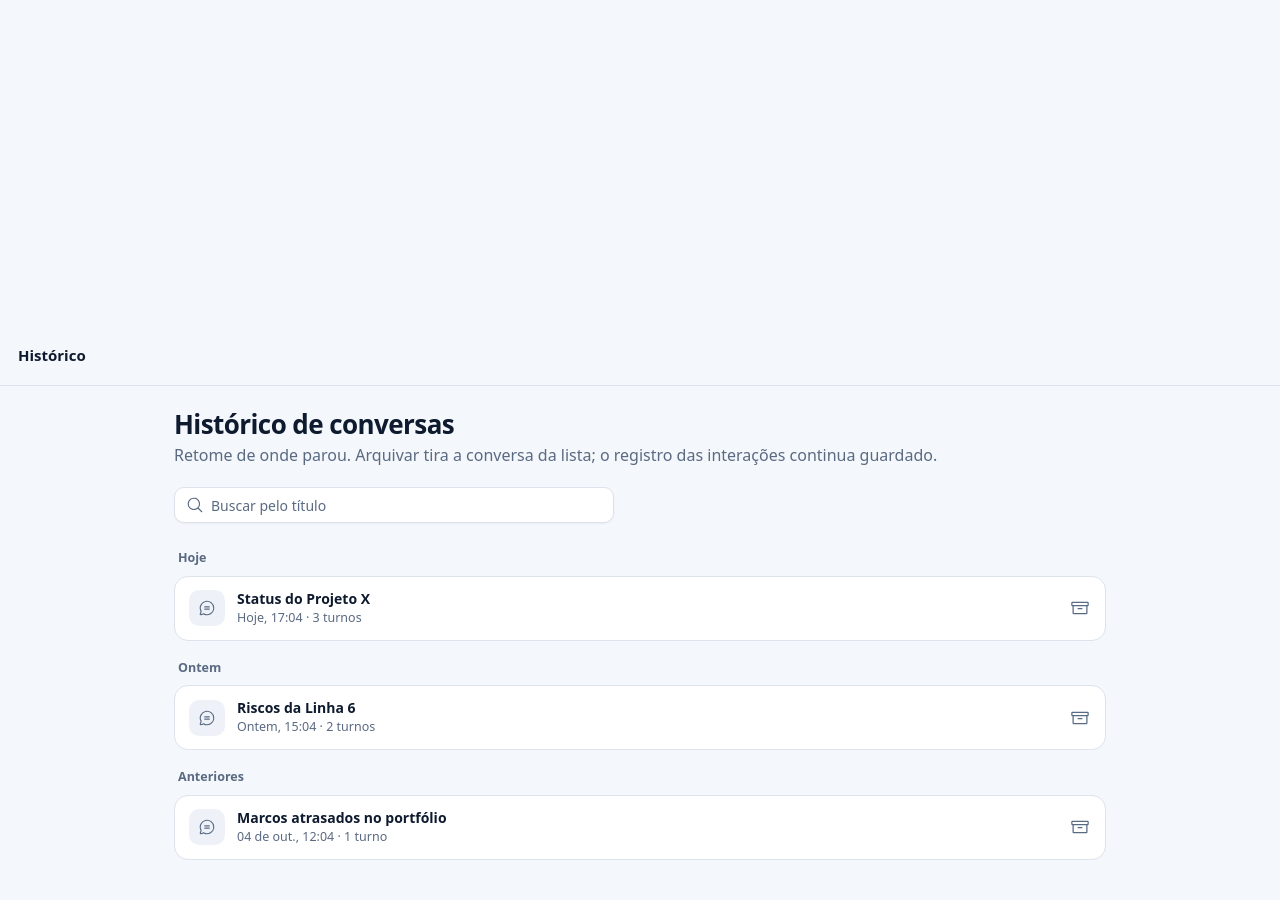
it: Página de histórico › arquiva a conversa depois de confirmar
(page scrolled)
Expected: the link "Status do Projeto X Hoje, 17:04 · 3 turnos" is shown, [189,589,370,626]
Click the button named "Arquivar Status do Projeto X". click: (1080, 608)
box: [1063,591,1097,625]
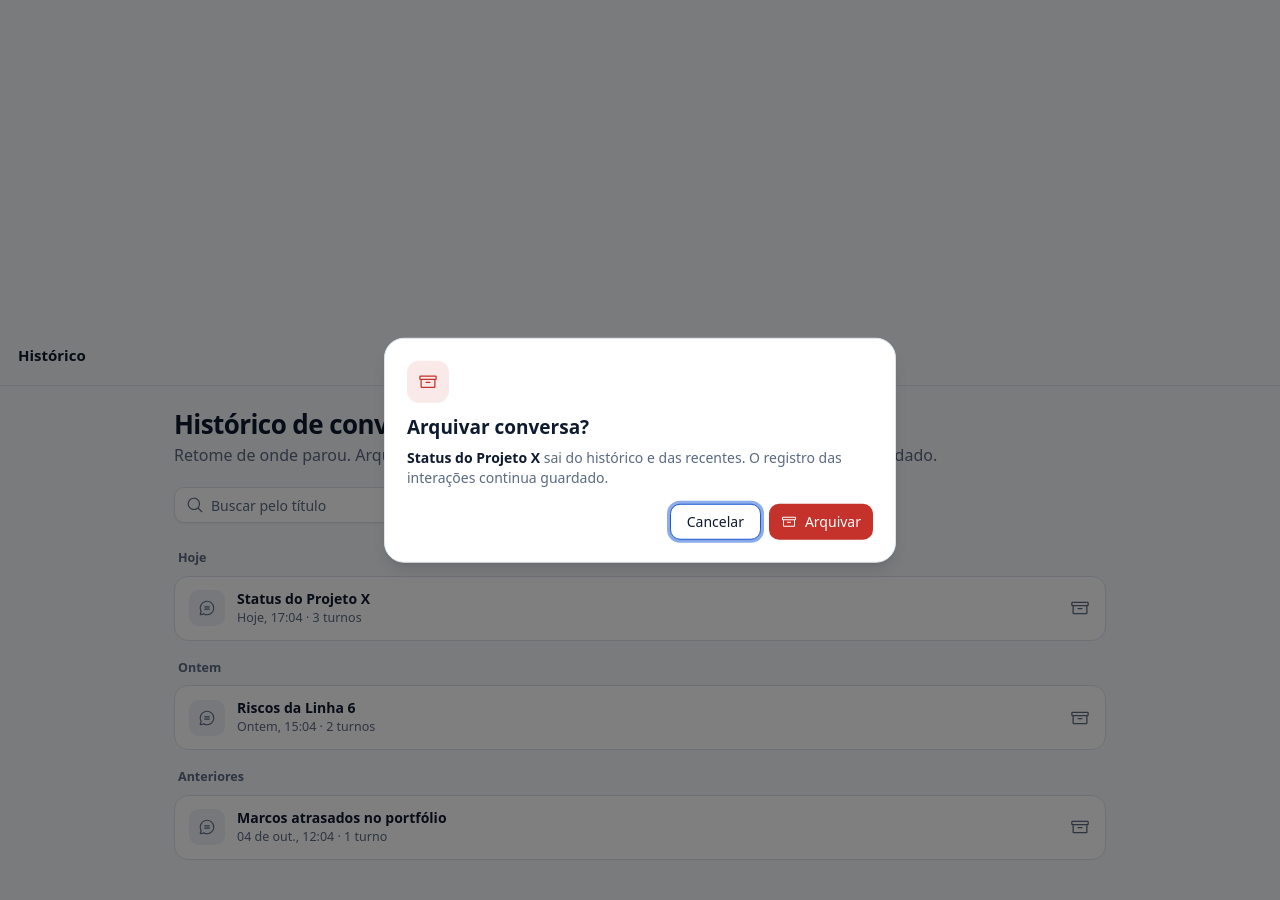
Expected: the dialog "Arquivar conversa?" shows "O registro das interações continua guardado.", [407,447,842,486]
Click the button "Arquivar". click: (821, 521)
box: [769,503,873,539]
(page scrolled)
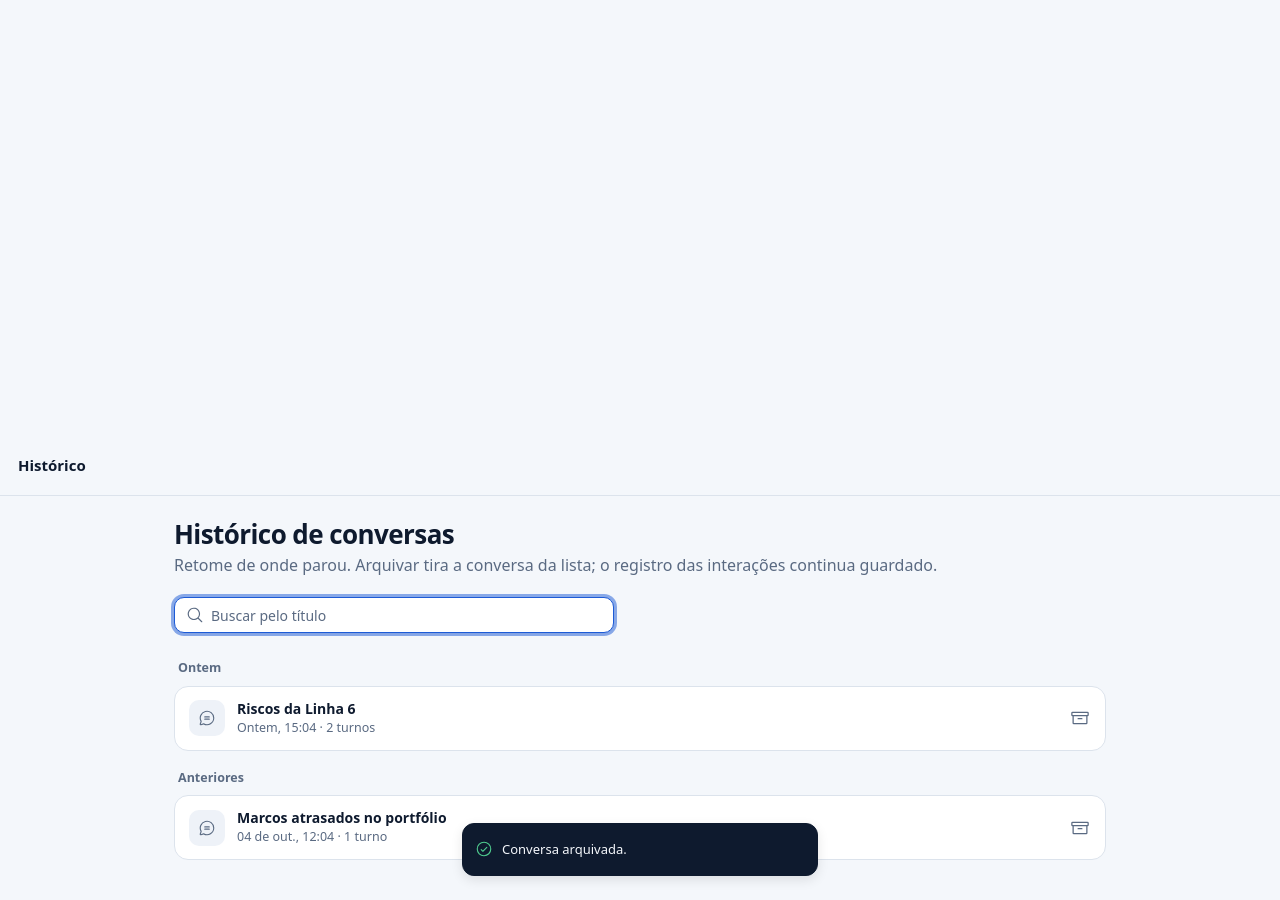
Expected: the link "Status do Projeto X" is gone
Expected: the text "Conversa arquivada." is shown, [502,840,627,859]
